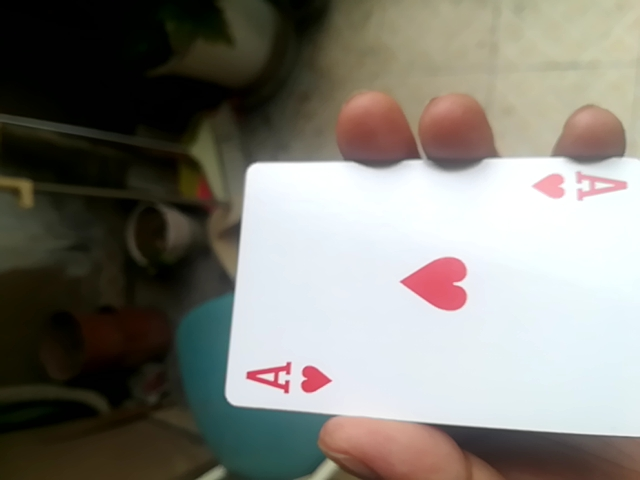hx a: (226, 150, 640, 443)
